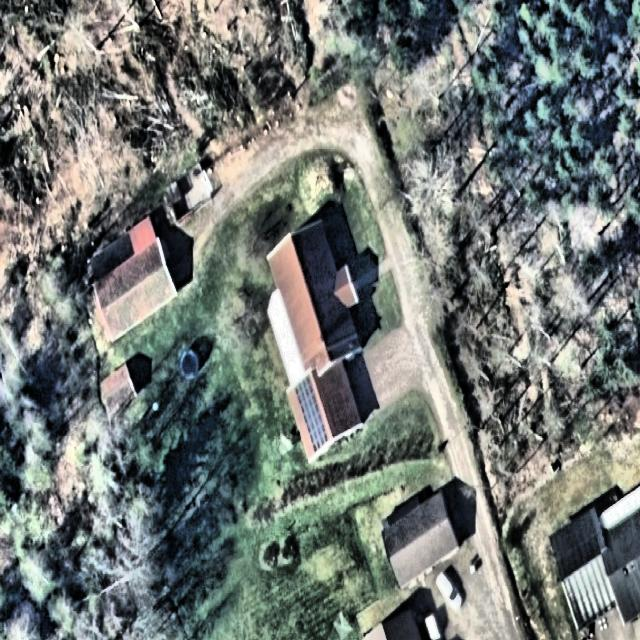roof_pv: (294, 373, 332, 454)
